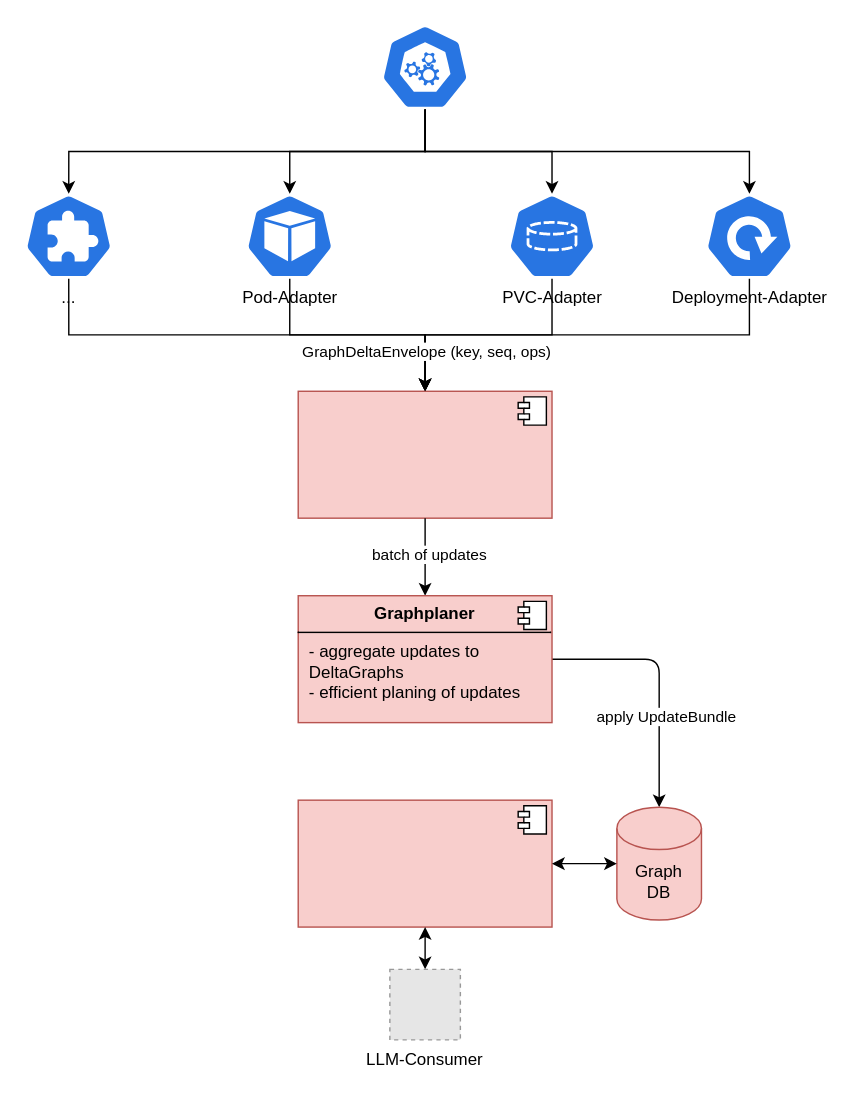
Some shapes in this 859 by 1094 pixel diagram are drawn without their labels. Grey dashed boxes stand in for pictures. The shapes that lost their labels are listed below. From the top down, each one's centre as x and y in pixels, then its label:
pixel 424 66: API-Server
pixel 424 454: Deltaqueue - state change "Buffer" - compaction of states
pixel 424 863: Graphservice - Interface for graph
